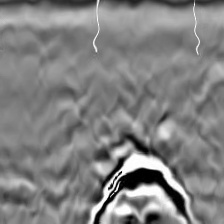Utility: (87, 149, 201, 224)
